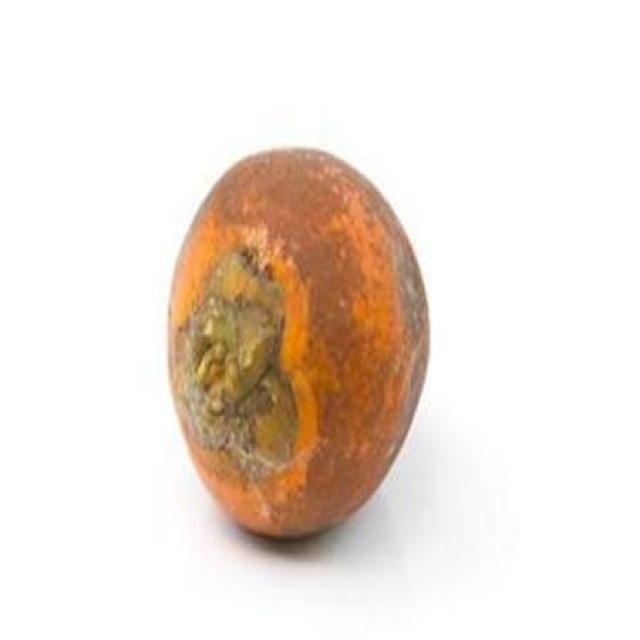good: (165, 149, 431, 540)
